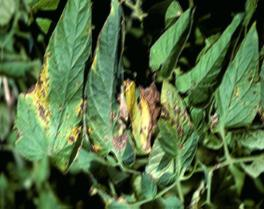Tomato leaf bacterial spot: (13, 4, 91, 175), (82, 2, 130, 164), (208, 18, 261, 136), (158, 75, 196, 177)
